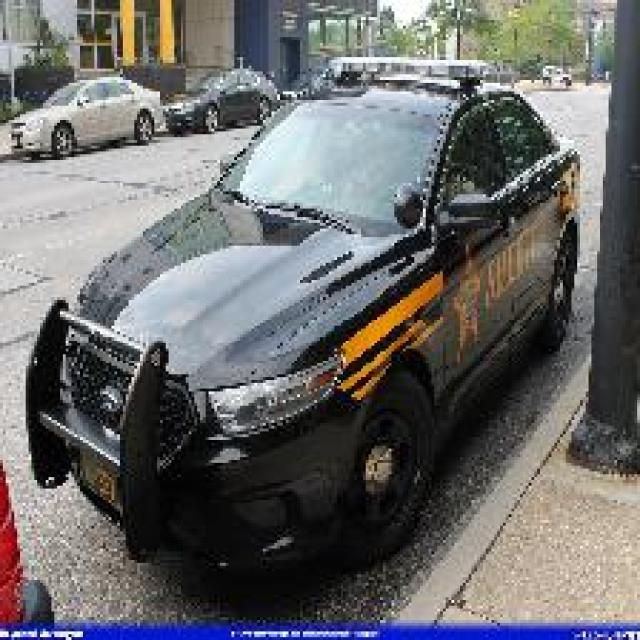Bus: (320, 54, 514, 92)
Car: (8, 74, 163, 160), (163, 66, 280, 134)
Police-car: (23, 54, 583, 580)
